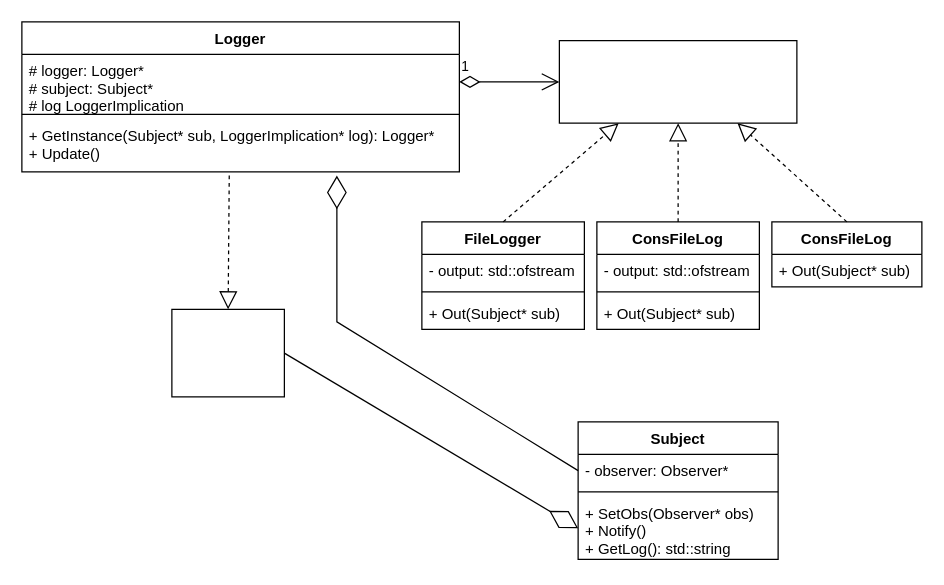
Some shapes in this 944 by 585 pixel diagram are drawn without their labels. Here are the shapes that lost their labels. From the top down, the centre of each, then its label:
At (x=677, y=81): "<<Interface>> LoggerImplication + Out(Subject* sub)".
At (x=227, y=352): "<<Interface>> Observer + Update()".
